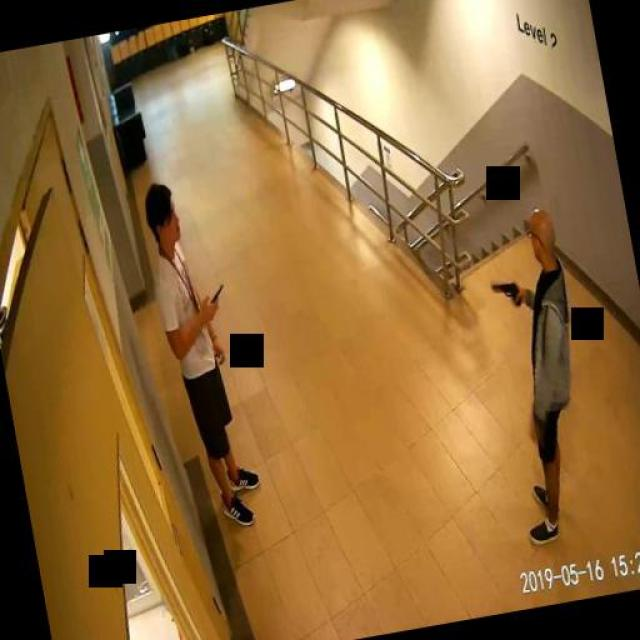gun: (489, 278, 520, 310)
